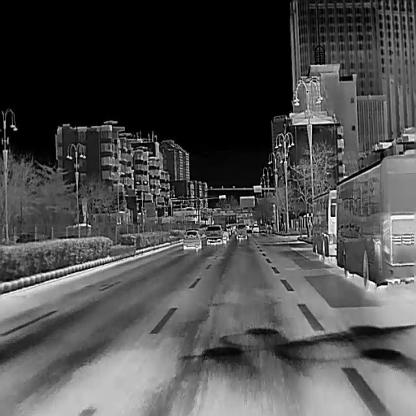bus: (336, 138, 416, 288), (312, 188, 336, 260)
car: (183, 228, 201, 248), (206, 223, 222, 244), (236, 222, 246, 238), (220, 227, 228, 239), (252, 222, 258, 232)
